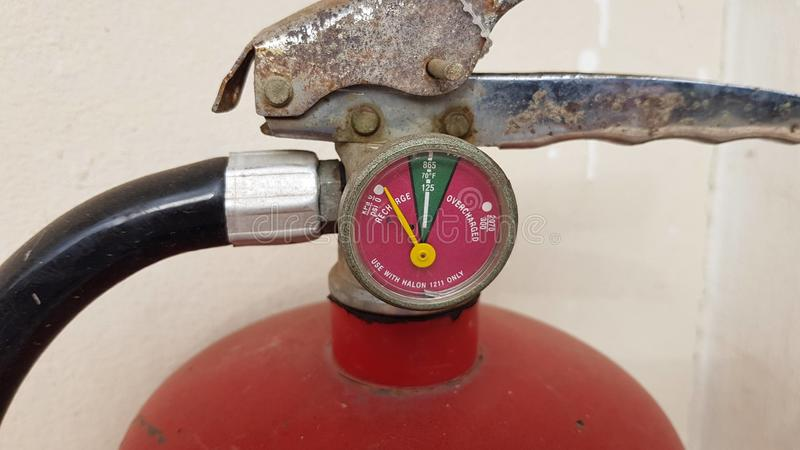fire_extinguisher: (1, 1, 798, 449)
